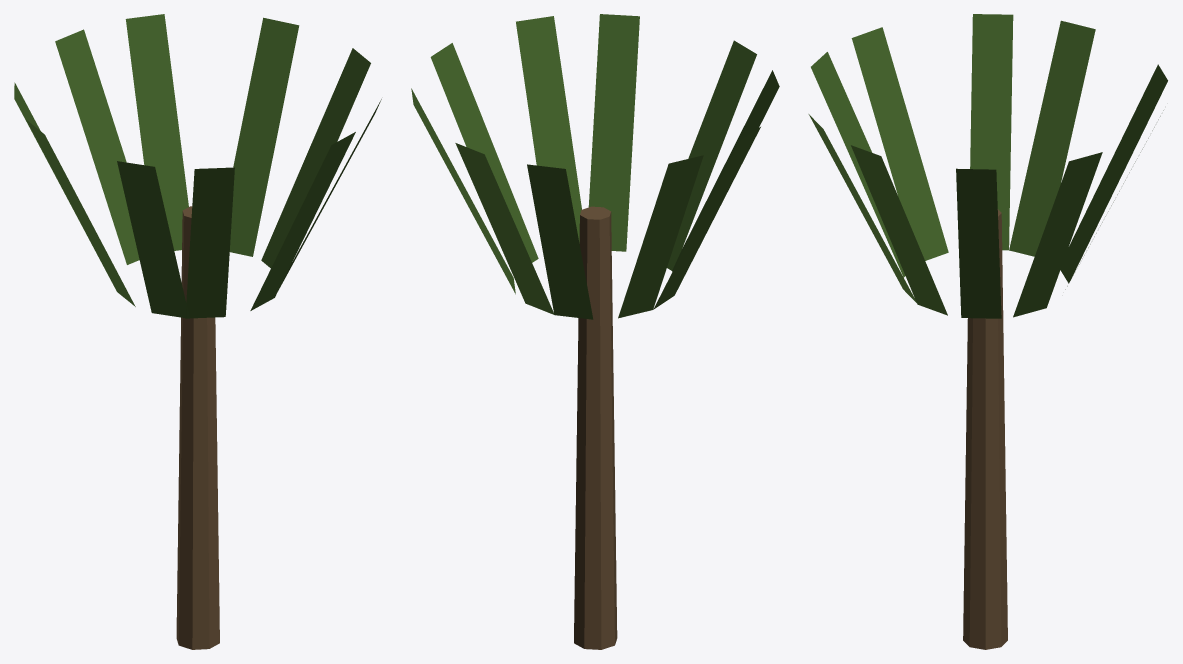
The model's file is young_date_palm.obj.
3 views of the same model, side by side, from view 1: azimuth 30°, elevation 25°; view 2: azimuth 150°, elevation 25°; view 3: azimuth 270°, elevation 25° (orthographic).
Parts seen in each view (by area): view 1: young_date_palm; view 2: young_date_palm; view 3: young_date_palm.
Boxes of the visible parts, box(x1,y1,x2,y2) form: young_date_palm: box(14, 14, 381, 649); young_date_palm: box(411, 14, 779, 649); young_date_palm: box(808, 14, 1167, 649).
Bounding box in the file's own units: 1.64 × 2.7 × 1.61.
